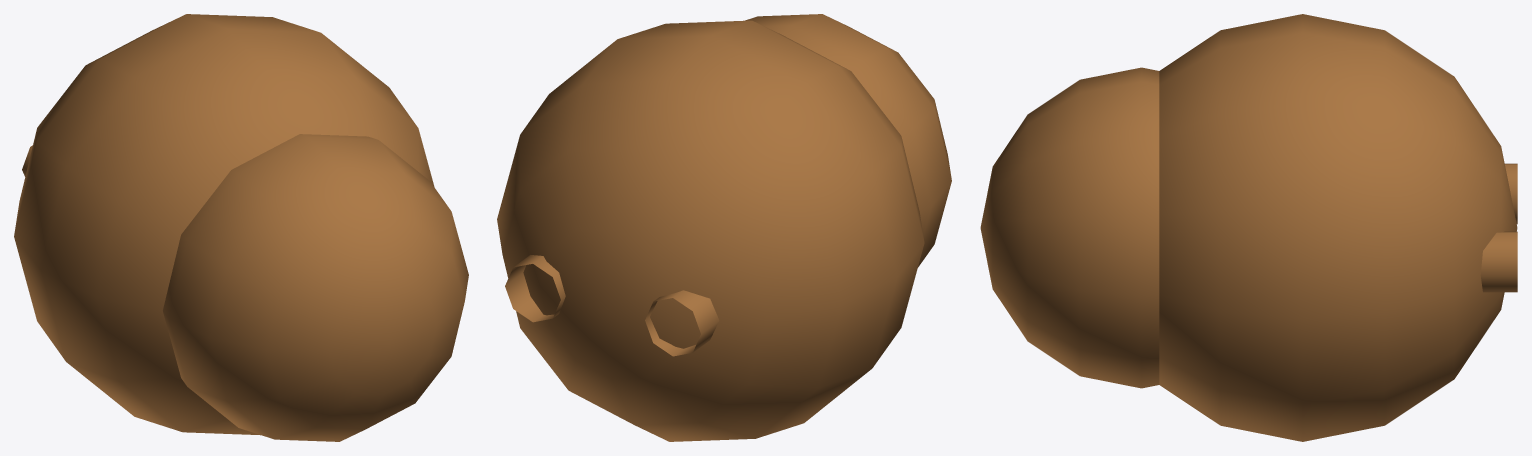
3 renders of one model, left to right at view 1: azimuth 30°, elevation 25°; view 2: azimuth 150°, elevation 25°; view 3: azimuth 270°, elevation 25°, orthographic.
Parts seen in each view (by area): view 1: Common_Wombat; view 2: Common_Wombat; view 3: Common_Wombat.
Boxes of the visible parts, left/top/right/bottom form: Common_Wombat: left=14, top=14, right=468, bottom=441; Common_Wombat: left=497, top=14, right=951, bottom=441; Common_Wombat: left=980, top=14, right=1517, bottom=441.
Bounding box in the file's own units: 0.88 × 0.88 × 1.1.
